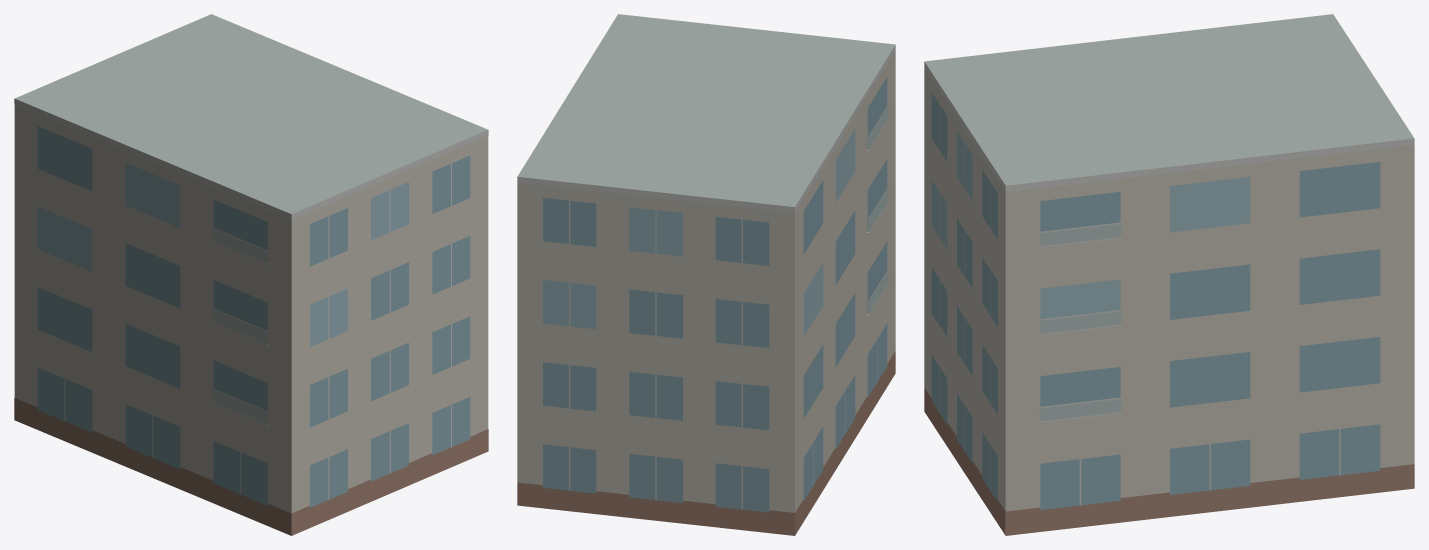
Rendered from survey-upis-32719732.glb.
3 views of the same model, side by side, from view 1: azimuth 30°, elevation 25°; view 2: azimuth 150°, elevation 25°; view 3: azimuth 270°, elevation 25° (orthographic). The views are drawn at different scales.
Parts seen in each view (by area): view 1: survey-upis-32719732.tmp; view 2: survey-upis-32719732.tmp; view 3: survey-upis-32719732.tmp.
Boxes of the visible parts, box(x1,y1,x2,y2) form: survey-upis-32719732.tmp: box(14, 14, 488, 535); survey-upis-32719732.tmp: box(517, 14, 895, 535); survey-upis-32719732.tmp: box(924, 14, 1414, 535).
Size of the model in its own units: 14.11 by 13.4 by 17.01.
